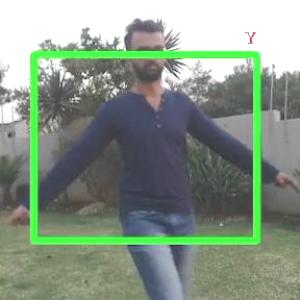land: (79, 80, 229, 264)
